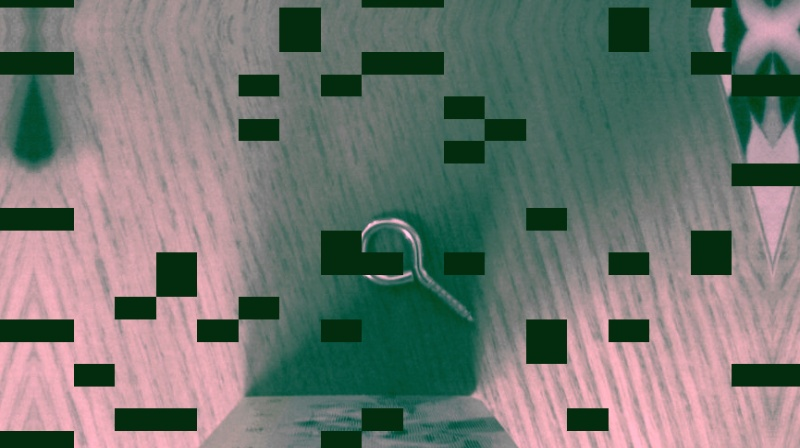O001: (352, 212, 478, 329)
